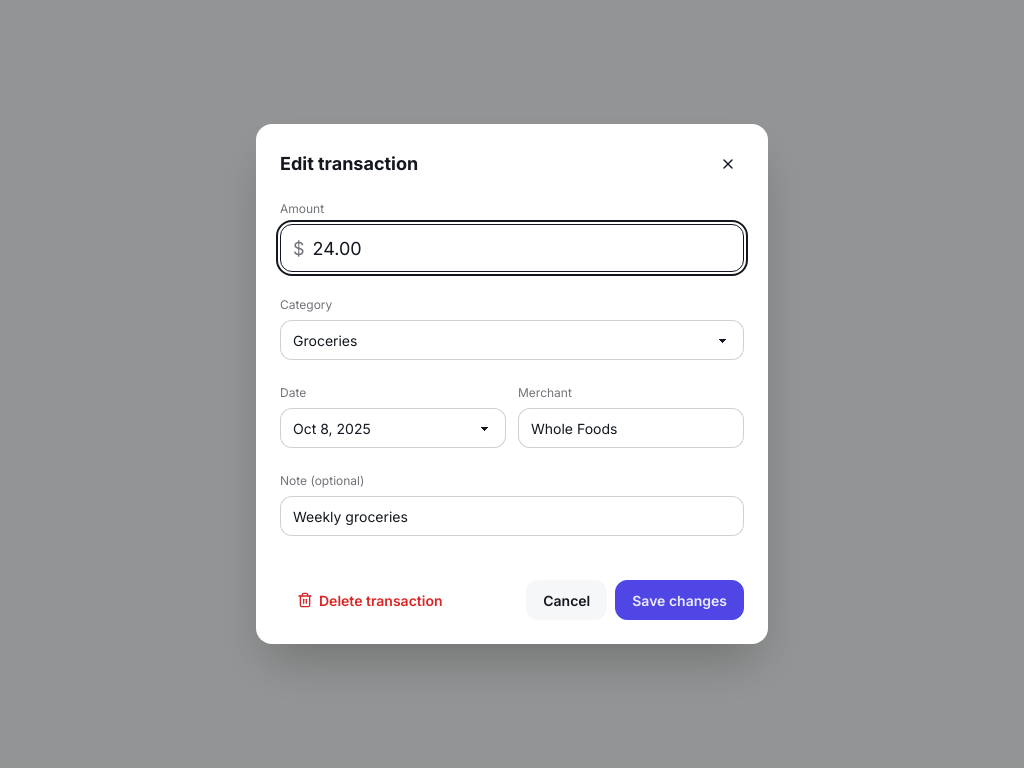
Test case: AC3: a successful save › disables Save while the request is out, and leaves every exit live
Type " Market" into the field labelled "Merchant" at (631,428), box [518,408,744,448]
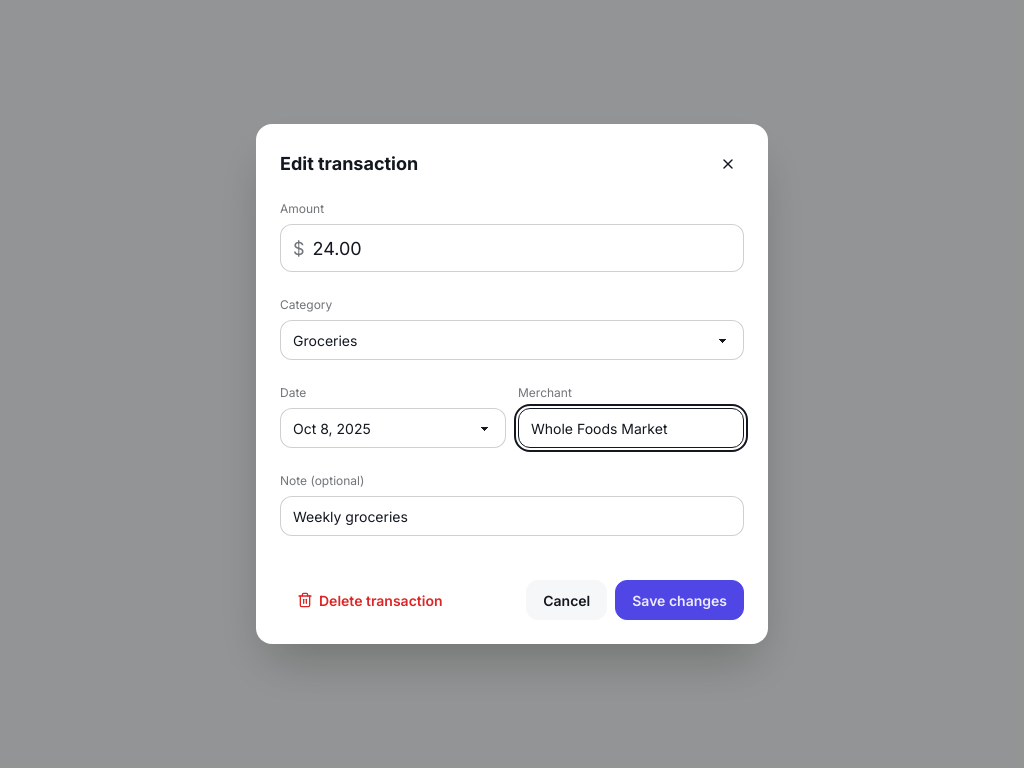
Click the button "Save changes" at (680,600), box [615,580,744,620]
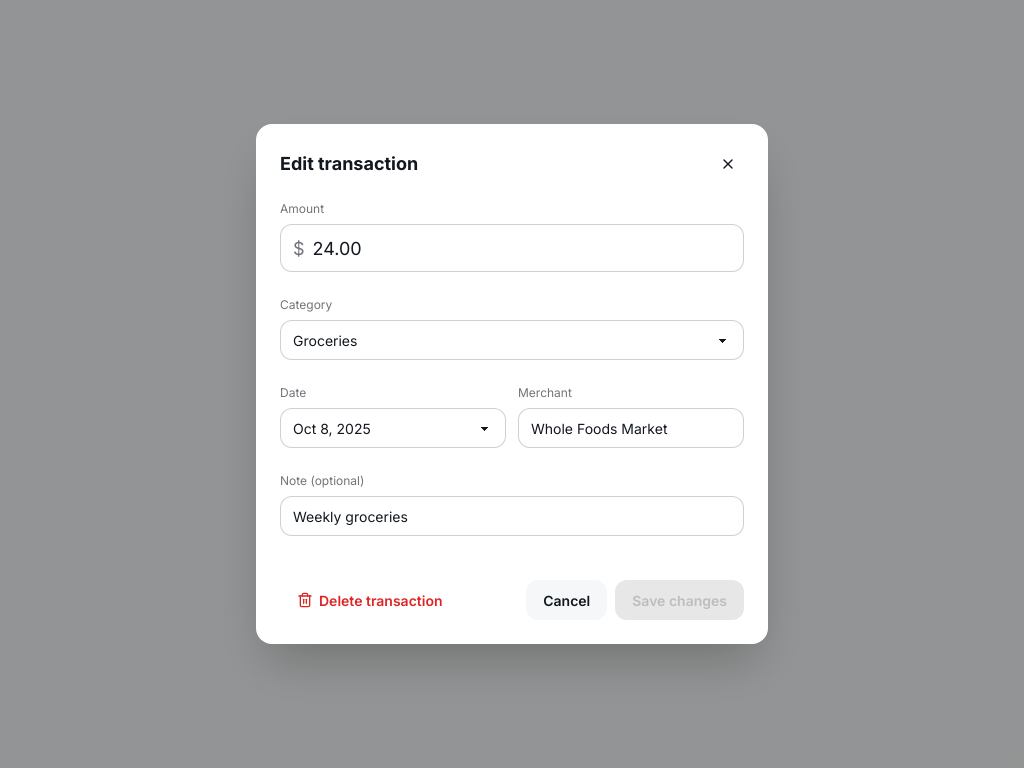
Expected: the button "Cancel" is enabled, [526,580,607,620]
Result: the button "Save changes" is disabled at [615,580,744,620]
